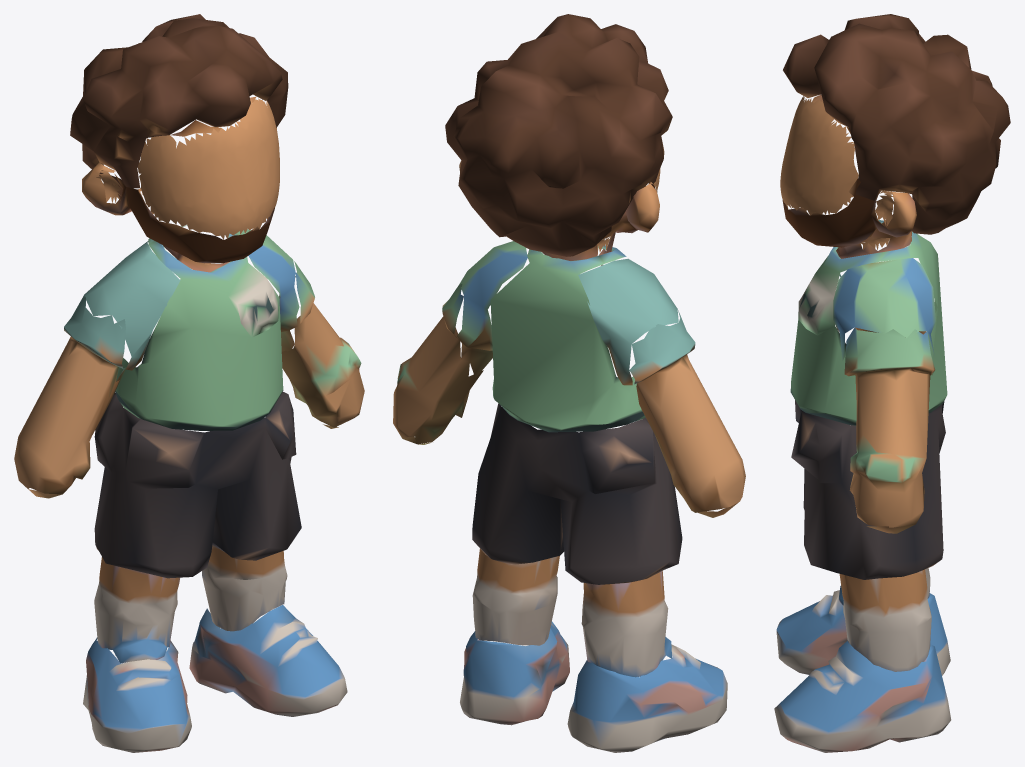
3 views of the same model, side by side, from view 1: azimuth 30°, elevation 25°; view 2: azimuth 150°, elevation 25°; view 3: azimuth 270°, elevation 25° (orthographic).
Visible parts, largest first — view 1: top, hair, head, sleeve_r, shoe_l, shoe_r, sleeve_l, bottom_r, bottom_l; view 2: top, hair, sleeve_r, shoe_r, shoe_l, bottom_r, sleeve_l, bottom_l; view 3: hair, top, sleeve_l, shoe_l, bottom_l, head, shoe_r.
Part boxes in pixels (x1,y1,x2,y2): top: (28,225,338,578); hair: (70,14,288,272); head: (96,98,279,264); sleeve_r: (14,296,125,494); shoe_l: (189,605,347,716); shoe_r: (83,637,191,752); sleeve_l: (281,261,364,427); bottom_r: (94,557,179,663); bottom_l: (202,545,287,631); top: (418,241,738,584); hair: (445,14,672,260); sleeve_r: (629,310,745,512); shoe_r: (567,644,727,752); shoe_l: (460,621,569,725); bottom_r: (581,571,672,677); sleeve_l: (393,284,483,444); bottom_l: (472,549,559,645); hair: (782,14,1010,258); top: (790,220,947,579); sleeve_l: (844,327,935,527); shoe_l: (774,641,951,752); bottom_l: (839,569,931,671); head: (780,96,894,250); shoe_r: (776,590,950,675).
Bounding box in the file's own units: 0.5351 × 1.03 × 0.3251.
